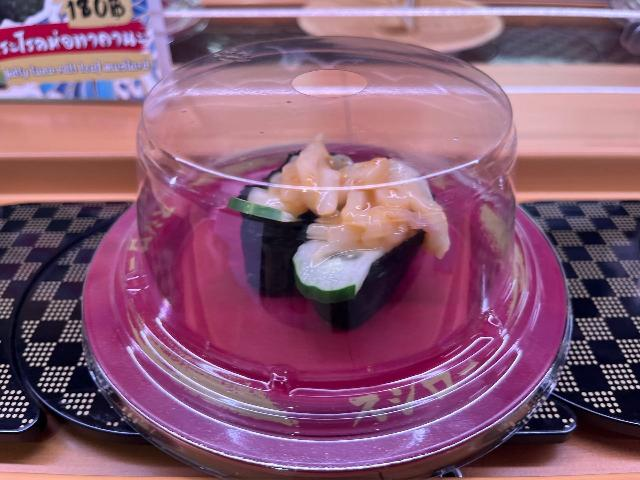janred: (96, 172, 568, 443)
